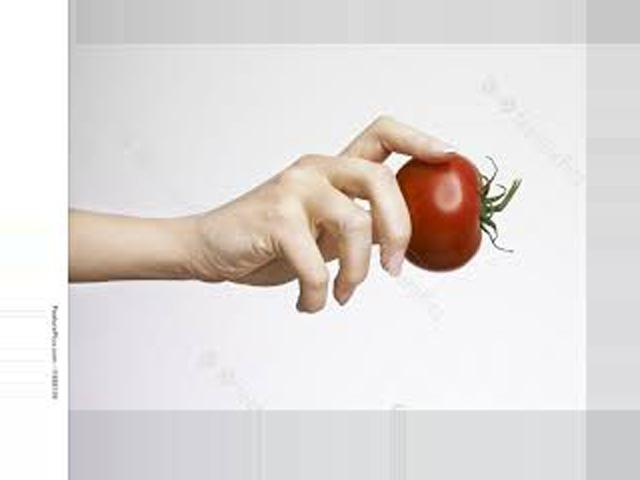tomato: (396, 154, 518, 270)
